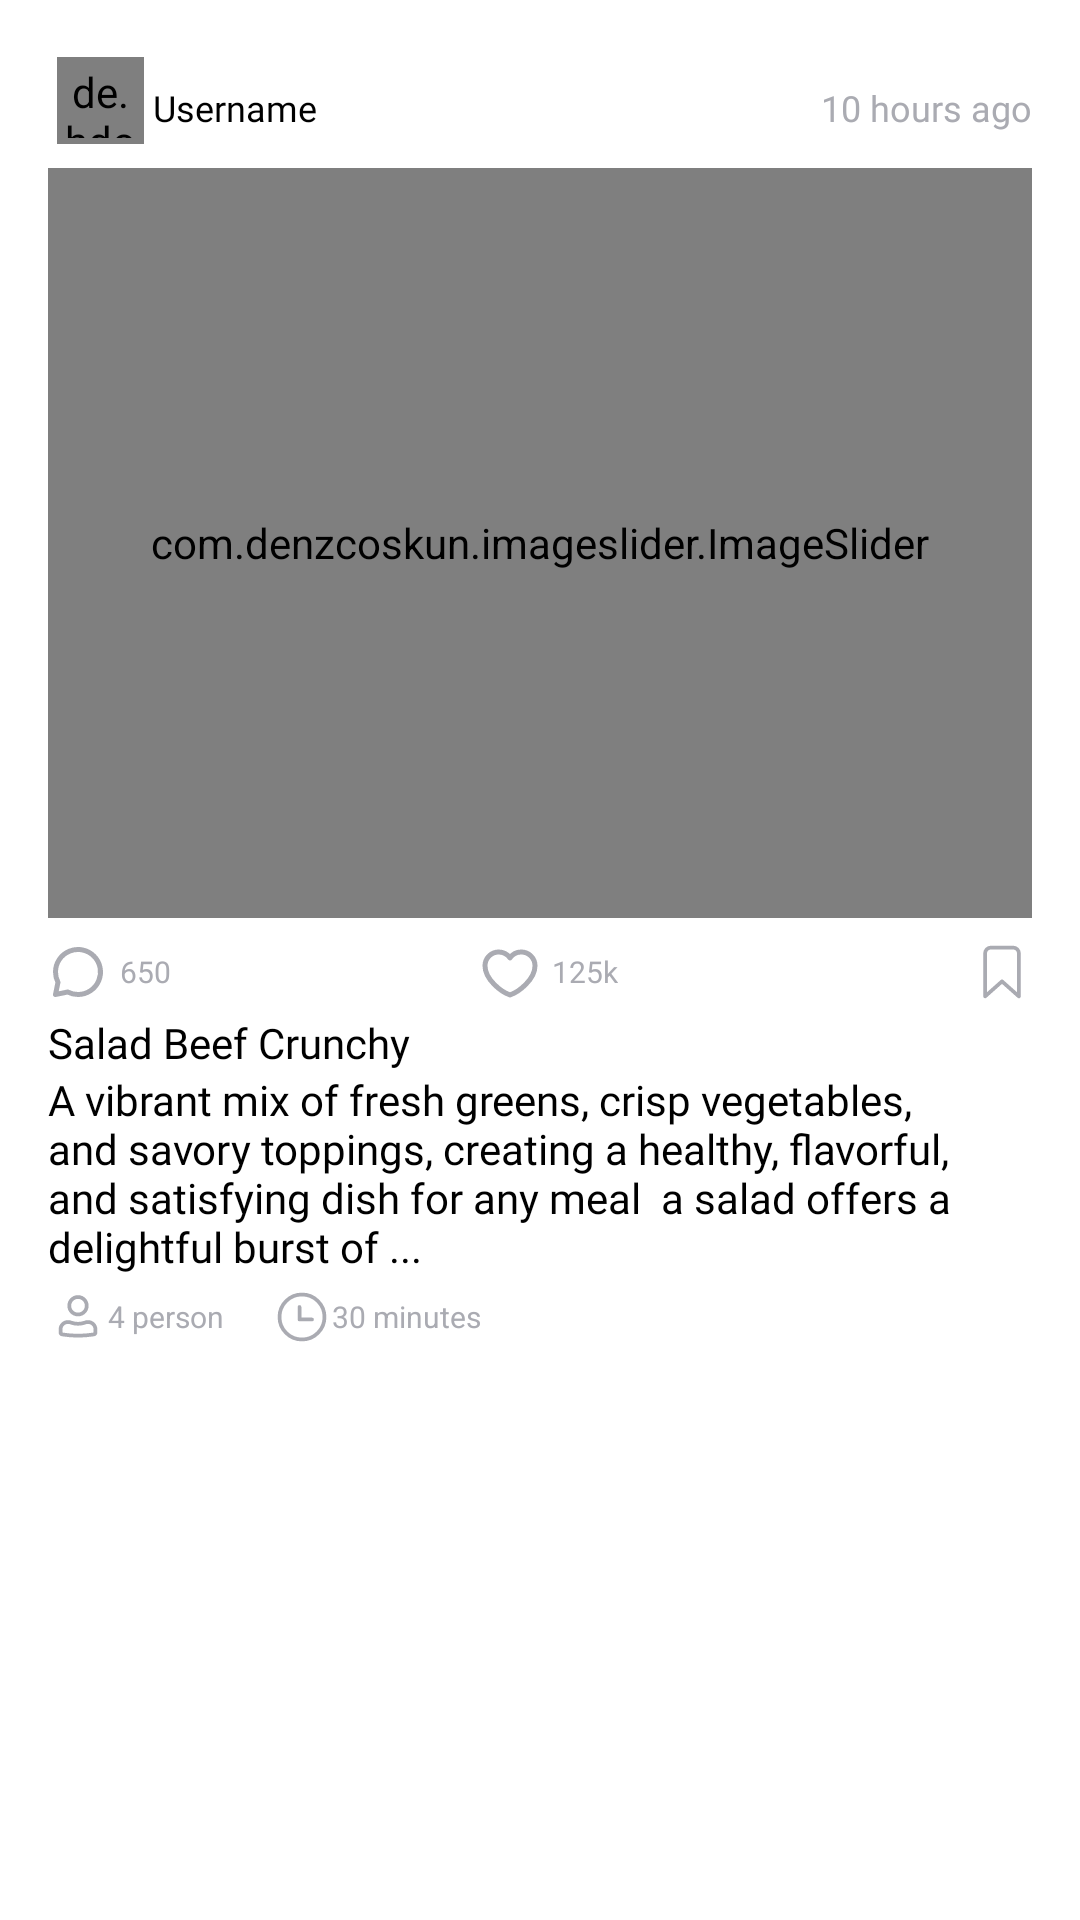

Icon click points for this 1080×1920 phone screenshot, format (x=x, y=y):
bookmark: (x=1002, y=972)
clock: (x=302, y=1317)
comment: (x=78, y=972)
love: (x=510, y=973)
profile home: (x=78, y=1316)
